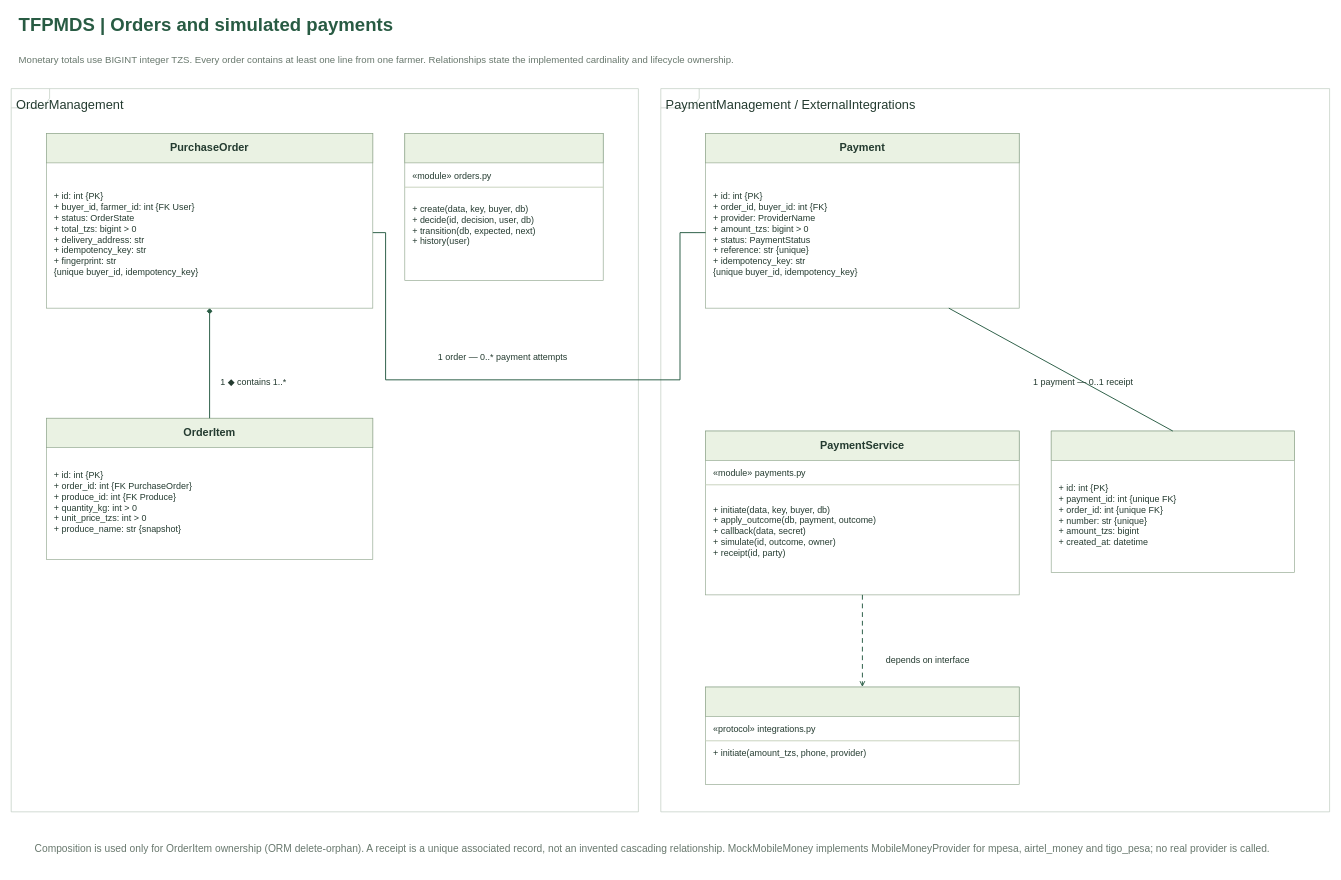
This 1341x880 diagram has some shape labels left out. Each missing label, with the centre of its shape:
MobileMoneyProvider: the point at 862,701
OrderService: the point at 503,148
PaymentReceipt: the point at 1172,445
